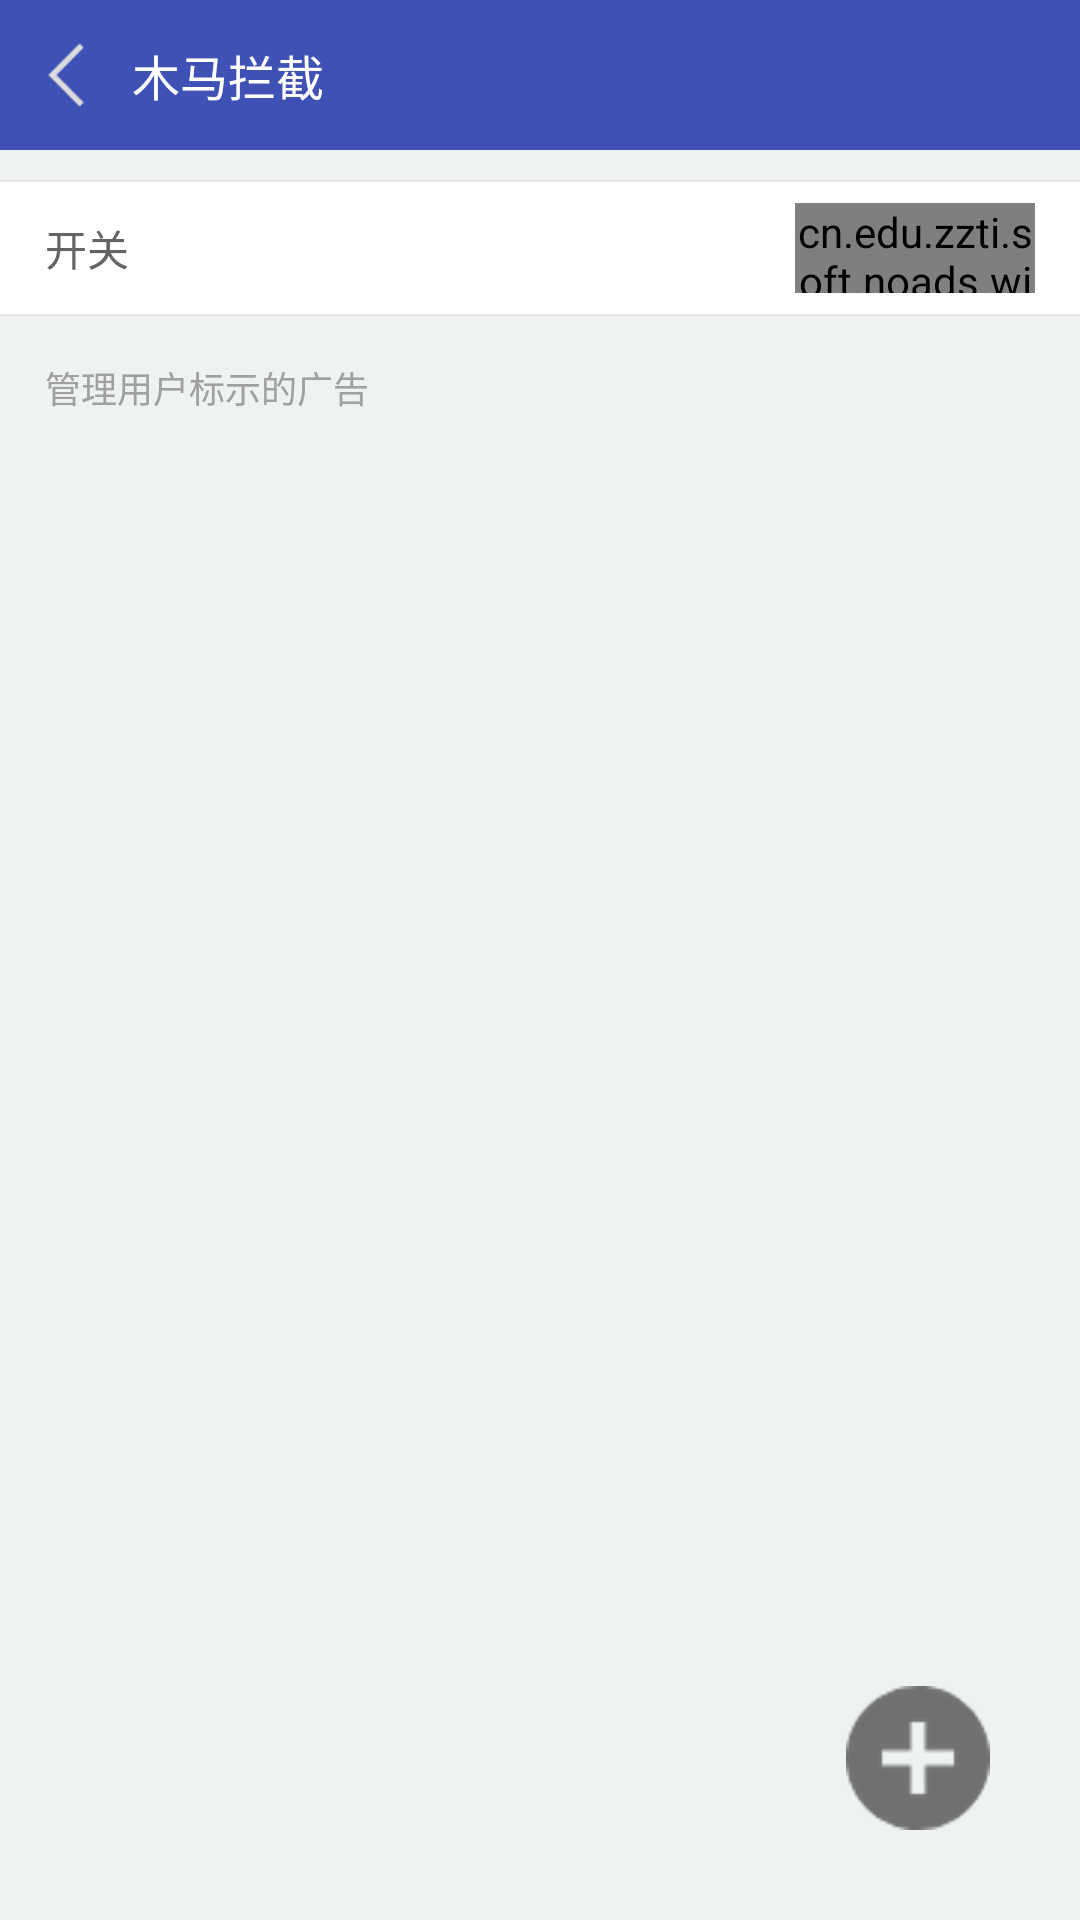

Where to tap for icons on this 1080*1920 app screen, as [x,y]:
add: [918,1758]
back: [66,75]
